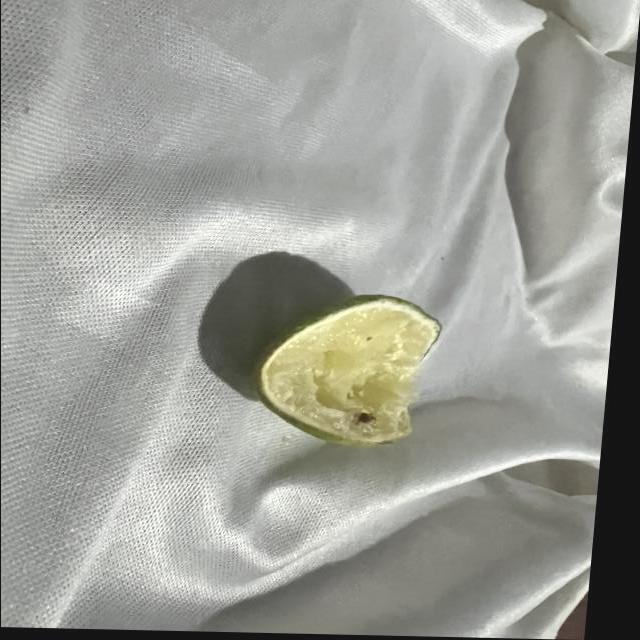Pathological: (2, 1, 635, 634)
Sharps: (252, 292, 443, 446)
